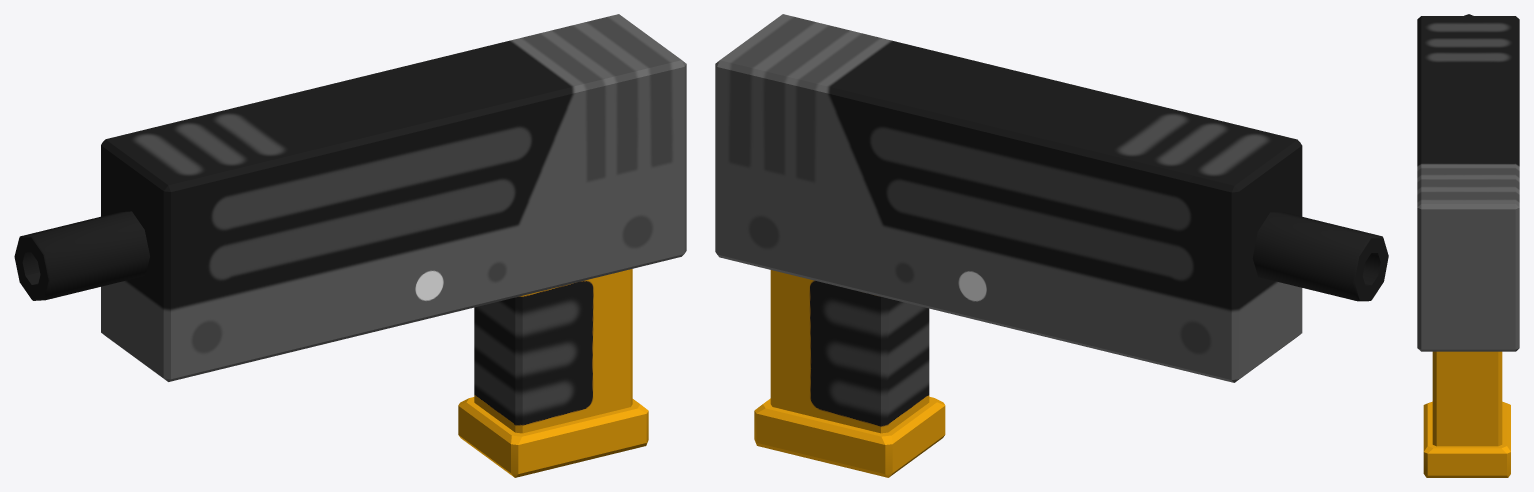
File: sung.FBX
The picture shows the model from 3 angles, left to right: view 1: azimuth 30°, elevation 25°; view 2: azimuth 150°, elevation 25°; view 3: azimuth 270°, elevation 25°; orthographic projection. The views are drawn at different scales.
Parts seen in each view (by area): view 1: Box001; view 2: Box001; view 3: Box001.
Part boxes in pixels (x1,y1,x2,y2): Box001: [14, 14, 686, 477]; Box001: [715, 14, 1388, 477]; Box001: [1417, 14, 1519, 477].
Bounding box in the file's own units: 0.693 × 0.4043 × 0.1315.
Materials: 1 (1 with a texture image).
